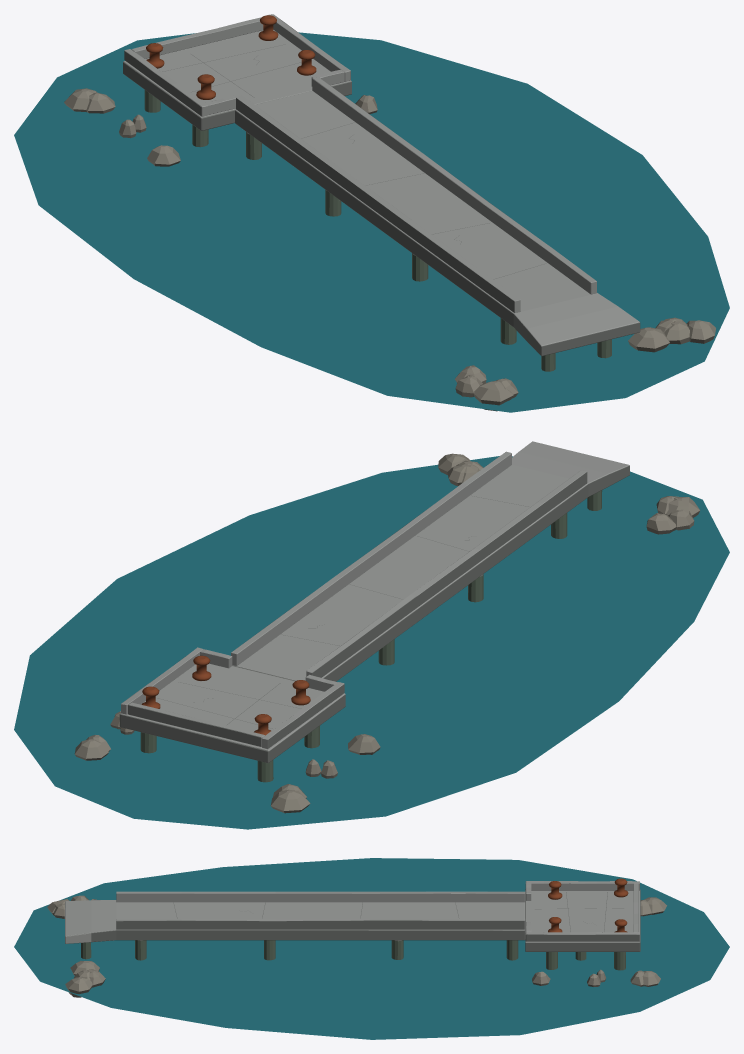
The model's file is old-dawis-wharf-refinement2.glb.
The picture shows the model from 3 angles, top to bottom: view 1: azimuth 30°, elevation 25°; view 2: azimuth 150°, elevation 25°; view 3: azimuth 270°, elevation 25°; orthographic projection. The views are drawn at different scales.
Parts seen in each view (by area): view 1: OldWharf_Water, OldWharf_MainDeck, OldWharf_TerminalPlatform, OldWharf_RightSideWall, OldWharf_LeftSideWall, OldWharf_TerminalEndParapet, OldWharf_TerminalLeftParapet, OldWharf_TerminalRightParapet, OldWharf_ShoreRock_07, OldWharf_ShoreRock_02; view 2: OldWharf_Water, OldWharf_MainDeck, OldWharf_TerminalPlatform, OldWharf_RightSideWall, OldWharf_LeftSideWall, OldWharf_TerminalEndParapet, OldWharf_TerminalLeftParapet, OldWharf_TerminalRightParapet, OldWharf_TerminalRock_07; view 3: OldWharf_Water, OldWharf_MainDeck, OldWharf_TerminalPlatform, OldWharf_LeftSideWall, OldWharf_RightSideWall, OldWharf_TerminalRightParapet, OldWharf_TerminalLeftParapet, OldWharf_ShoreRock_05.
Part boxes in pixels (<box>): OldWharf_Water: <box>14,32,729,412</box>; OldWharf_MainDeck: <box>235,91,640,356</box>; OldWharf_TerminalPlatform: <box>123,30,351,130</box>; OldWharf_RightSideWall: <box>312,77,596,294</box>; OldWharf_LeftSideWall: <box>236,95,520,312</box>; OldWharf_TerminalEndParapet: <box>131,17,263,58</box>; OldWharf_TerminalLeftParapet: <box>124,49,207,116</box>; OldWharf_TerminalRightParapet: <box>267,14,350,81</box>; OldWharf_ShoreRock_07: <box>628,327,669,352</box>; OldWharf_ShoreRock_02: <box>473,380,513,411</box>; OldWharf_Water: <box>14,456,729,829</box>; OldWharf_MainDeck: <box>232,441,629,681</box>; OldWharf_TerminalPlatform: <box>119,663,345,762</box>; OldWharf_RightSideWall: <box>231,451,511,665</box>; OldWharf_LeftSideWall: <box>306,470,587,677</box>; OldWharf_TerminalEndParapet: <box>128,702,264,746</box>; OldWharf_TerminalLeftParapet: <box>262,682,344,748</box>; OldWharf_TerminalRightParapet: <box>121,647,202,714</box>; OldWharf_TerminalRock_07: <box>270,789,310,813</box>; OldWharf_Water: <box>14,858,729,1039</box>; OldWharf_MainDeck: <box>65,900,525,943</box>; OldWharf_TerminalPlatform: <box>525,889,640,951</box>; OldWharf_LeftSideWall: <box>116,891,525,902</box>; OldWharf_RightSideWall: <box>116,918,525,929</box>; OldWharf_TerminalRightParapet: <box>525,932,639,941</box>; OldWharf_TerminalLeftParapet: <box>525,881,639,890</box>; OldWharf_ShoreRock_05: <box>65,977,92,997</box>.
Size of the model in its own units: 16.8 by 3.13 by 27.94.
